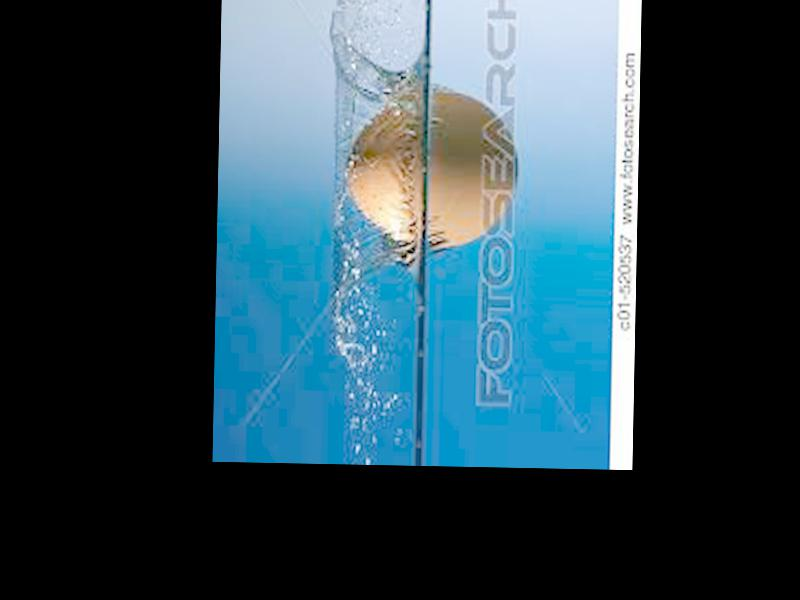Eggs: (344, 88, 517, 248)
